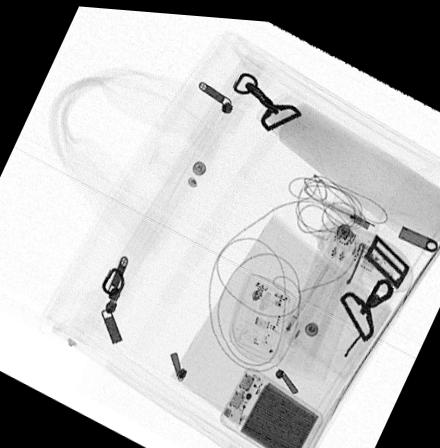Powerbank: (218, 361, 324, 448)
